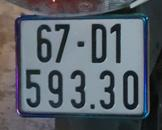1: (109, 18, 126, 65)
3: (96, 67, 119, 118), (122, 67, 140, 114), (68, 67, 86, 111)
5: (23, 65, 44, 109)
6: (36, 23, 55, 62)
7: (54, 17, 71, 62)
9: (47, 66, 64, 109)
D: (89, 24, 108, 64)
